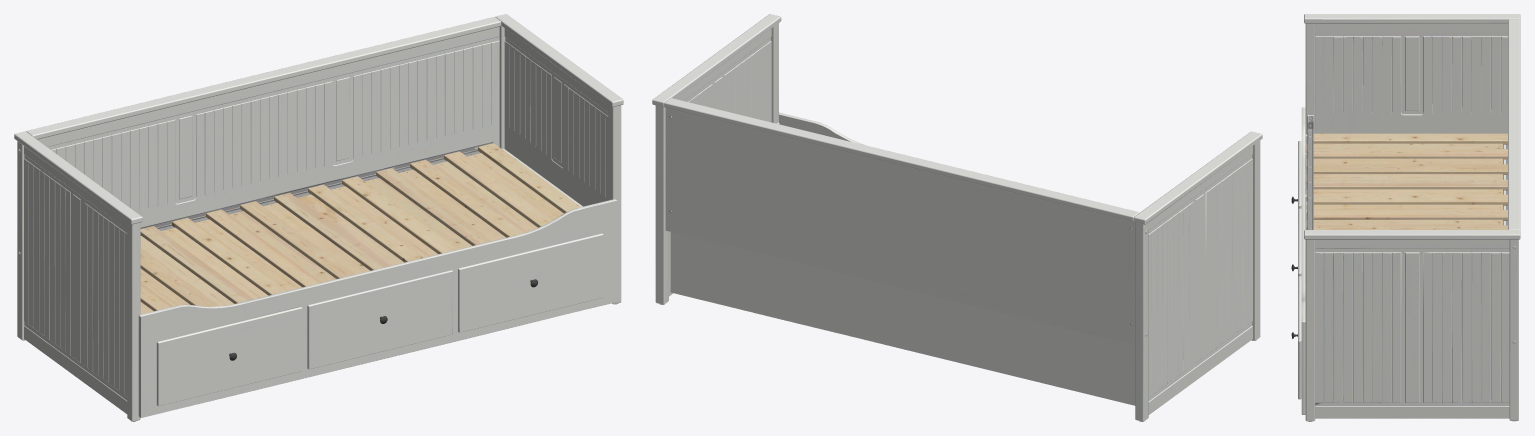
Rendered from hemnes_rama_lezanki_z_3_szufladami_90349326.glb.
3 renders of one model, left to right at view 1: azimuth 30°, elevation 25°; view 2: azimuth 150°, elevation 25°; view 3: azimuth 270°, elevation 25°, orthographic. The views are drawn at different scales.
Visible parts, largest first — view 1: hemnes_rama_lezanki_z_3_szufladami_90349326; view 2: hemnes_rama_lezanki_z_3_szufladami_90349326; view 3: hemnes_rama_lezanki_z_3_szufladami_90349326.
Boxes of the visible parts, x1,y1,x2,y2 form: hemnes_rama_lezanki_z_3_szufladami_90349326: (14,14,623,421); hemnes_rama_lezanki_z_3_szufladami_90349326: (652,14,1262,421); hemnes_rama_lezanki_z_3_szufladami_90349326: (1291,14,1520,421).
Bounding box in the file's own units: 2.09 × 0.8301 × 0.9138.
Materials: 1 (1 with a texture image).
